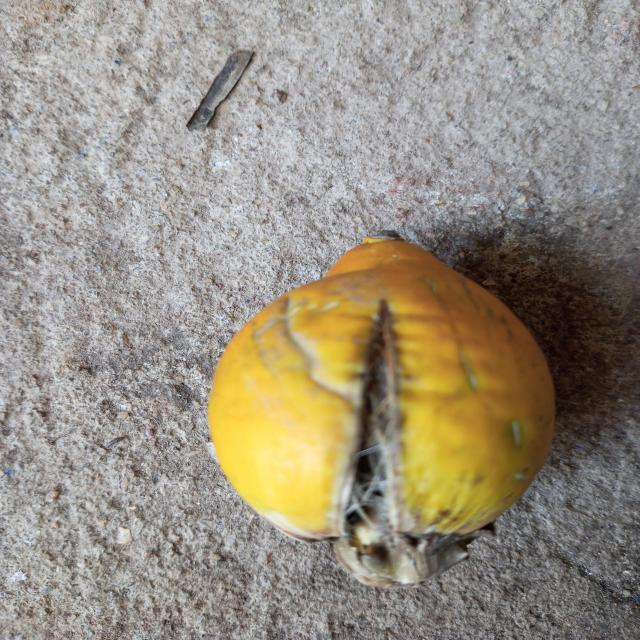damaged: (209, 231, 554, 587)
